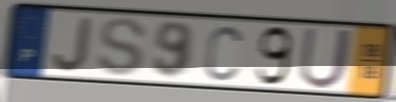9: (151, 19, 193, 81), (254, 24, 295, 87)
C: (203, 23, 245, 83)
J: (51, 16, 94, 73)
S: (95, 16, 149, 79)
U: (297, 25, 355, 91)
